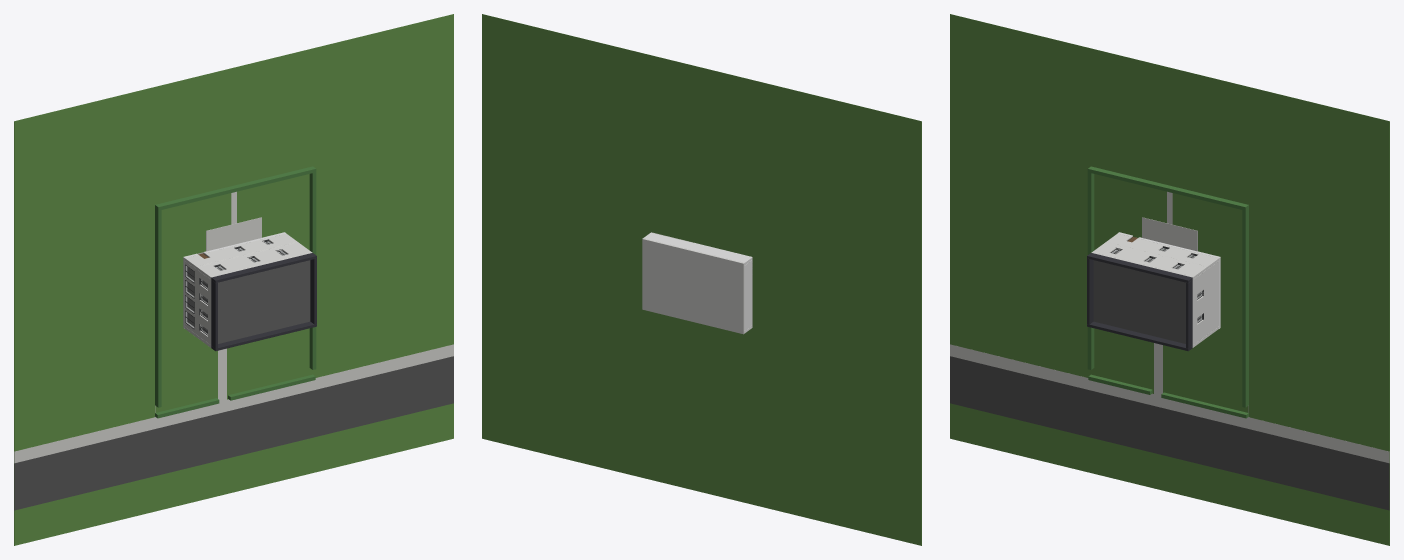
The model's file is eckhaus1940.glb.
3 renders of one model, left to right at view 1: azimuth 30°, elevation 25°; view 2: azimuth 150°, elevation 25°; view 3: azimuth 330°, elevation 25°, orthographic.
Parts seen in each view (by area): view 1: T277 Rasen, T281 Strasse, T27 Flachdach-Abdichtung, T280 Gehweg, T287 Hecke West, T07 Nordwand 1.OG, T286 Terrasse Nord, T03 Nordwand EG, T289 Hecke Nord, T288 Hecke Ost, T08 Westwand 1.OG, T29 Attika Nord (+3 smaller); view 2: T277 Rasen, T26 Kellersohle, T23 Kelleraussenwand Nord, T24 Kelleraussenwand West; view 3: T277 Rasen, T281 Strasse, T27 Flachdach-Abdichtung, T280 Gehweg, T288 Hecke Ost, T07 Nordwand 1.OG, T286 Terrasse Nord, T03 Nordwand EG, T289 Hecke Nord, T287 Hecke West, T09 Ostwand 1.OG, T05 Ostwand EG (+3 smaller).
Part boxes in pixels (box(x1,y1,x2,y2)): T277 Rasen: box(14, 14, 453, 545); T281 Strasse: box(14, 356, 453, 510); T27 Flachdach-Abdichtung: box(218, 260, 310, 343); T280 Gehweg: box(14, 344, 453, 463); T287 Hecke West: box(155, 204, 161, 407); T07 Nordwand 1.OG: box(197, 242, 310, 278); T286 Terrasse Nord: box(206, 217, 261, 251); T03 Nordwand EG: box(185, 233, 297, 268); T289 Hecke Nord: box(156, 167, 316, 209); T288 Hecke Ost: box(309, 166, 316, 369); T08 Westwand 1.OG: box(197, 270, 210, 344); T29 Attika Nord: box(211, 253, 316, 282); T277 Rasen: box(482, 14, 921, 545); T26 Kellersohle: box(642, 238, 744, 334); T23 Kelleraussenwand Nord: box(643, 232, 751, 264); T24 Kelleraussenwand West: box(744, 260, 752, 330); T277 Rasen: box(950, 14, 1389, 545); T281 Strasse: box(950, 356, 1389, 510); T27 Flachdach-Abdichtung: box(1093, 260, 1185, 343); T280 Gehweg: box(950, 344, 1389, 463); T288 Hecke Ost: box(1242, 204, 1248, 407); T07 Nordwand 1.OG: box(1093, 242, 1206, 278); T286 Terrasse Nord: box(1142, 217, 1197, 251); T03 Nordwand EG: box(1106, 233, 1218, 268); T289 Hecke Nord: box(1088, 166, 1247, 210); T287 Hecke West: box(1087, 166, 1094, 369); T09 Ostwand 1.OG: box(1193, 270, 1206, 344); T05 Ostwand EG: box(1207, 261, 1218, 334).
Size of the model in its own units: 78 by 72 by 12.7.
